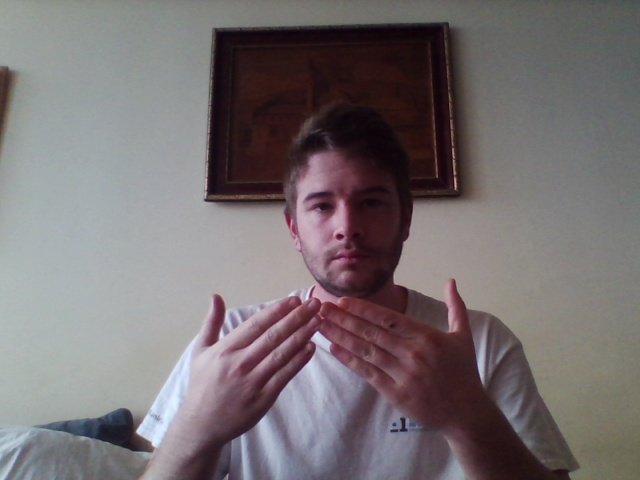hvala: (192, 277, 478, 437)
